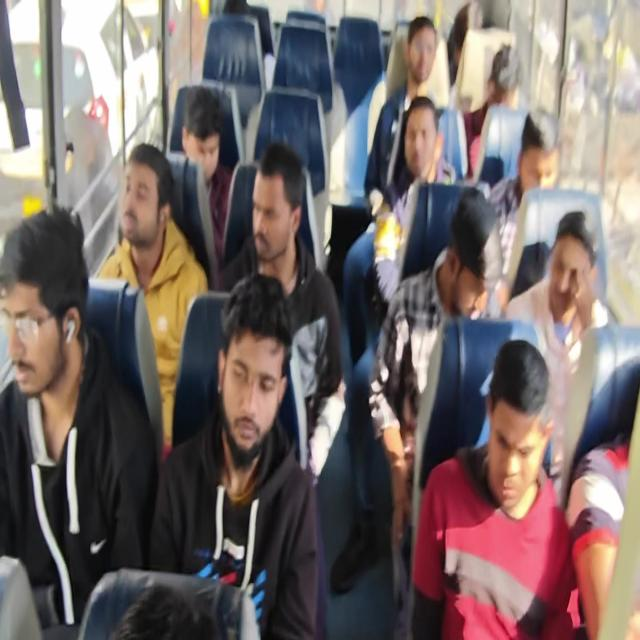person: (1, 2, 637, 638), (0, 203, 158, 638), (331, 94, 458, 595), (149, 271, 320, 638), (367, 185, 501, 635), (411, 338, 576, 638), (217, 141, 346, 484), (95, 142, 208, 451), (501, 209, 614, 502), (342, 95, 458, 362), (566, 387, 639, 638), (482, 109, 559, 306), (364, 15, 442, 207), (180, 85, 234, 274), (465, 42, 529, 184), (108, 583, 220, 639)
